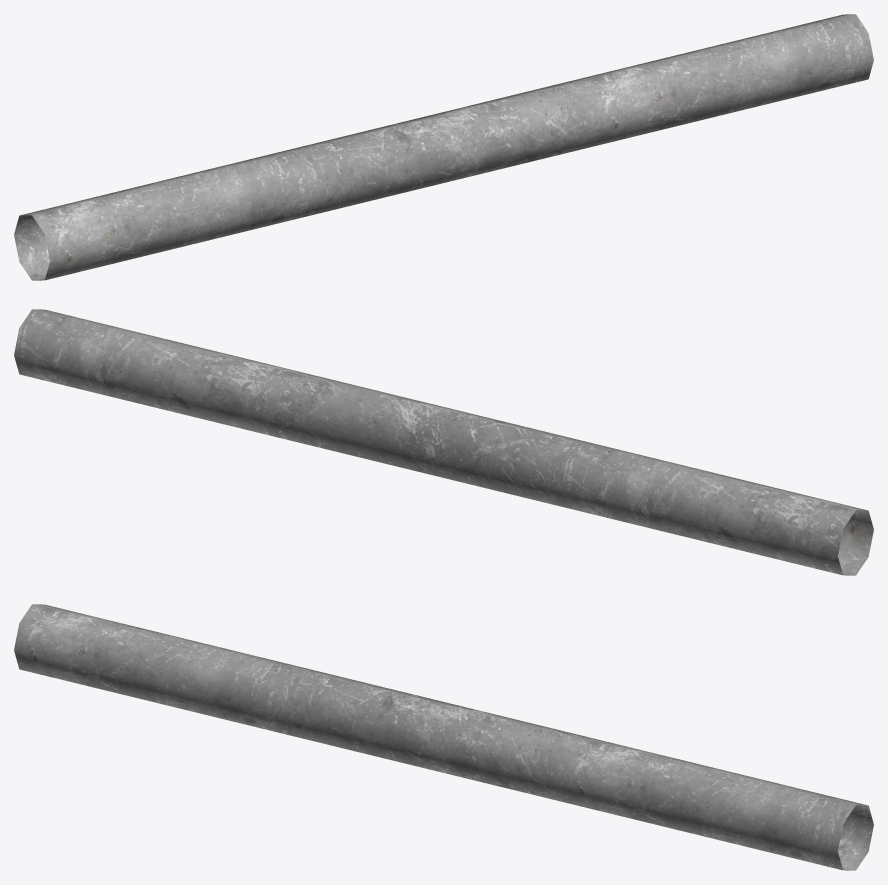
File: Ob_MiniSupport_RC.fbx
3 views of the same model, one above another, from view 1: azimuth 30°, elevation 25°; view 2: azimuth 150°, elevation 25°; view 3: azimuth 330°, elevation 25° (orthographic).
Parts seen in each view (by area): view 1: Ob_PipeMini; view 2: Ob_PipeMini; view 3: Ob_PipeMini.
Part boxes in pixels (bbox=[...]): Ob_PipeMini: bbox=[14, 14, 873, 280]; Ob_PipeMini: bbox=[14, 309, 873, 575]; Ob_PipeMini: bbox=[14, 604, 873, 870].
Size of the model in its own units: 1196 by 90.62 by 90.62.
